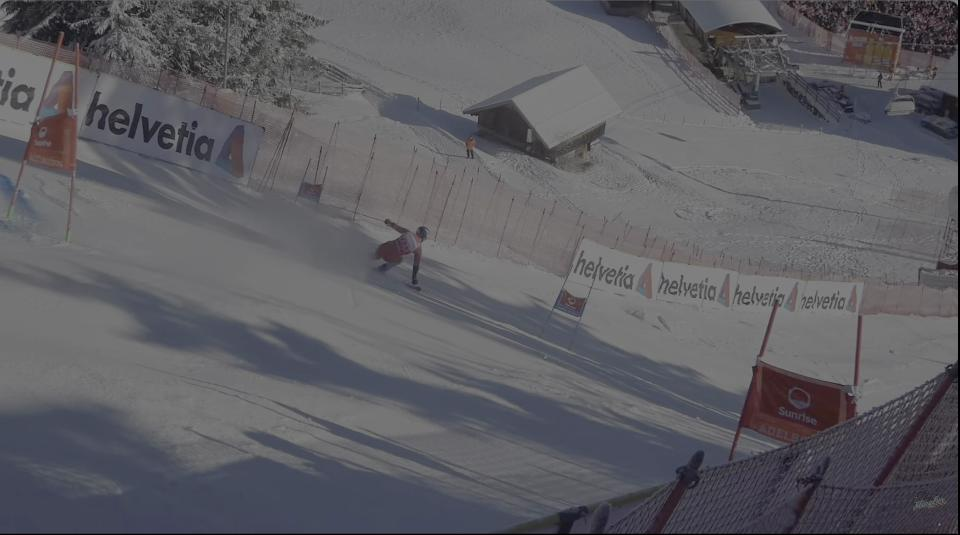gate: (705, 284, 794, 480), (2, 25, 68, 260), (61, 38, 83, 261), (840, 299, 876, 429)
